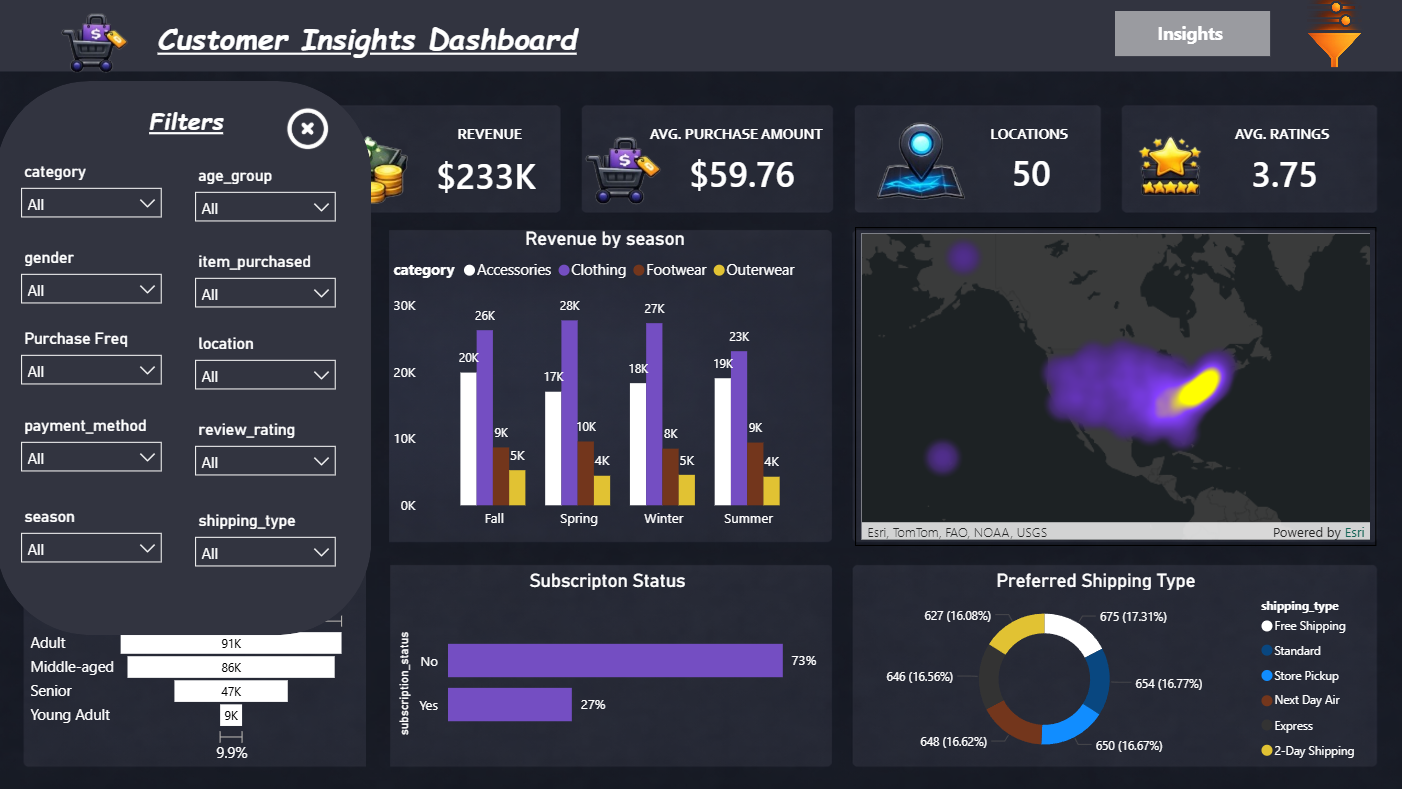

The dashboard page shown, as its layout file describes it:
{"tool":"powerbi","page":{"name":"Home","canvas":[1280,720],"ordinal":0},"visuals":[{"type":"shape","box":[0,0,1280,67.5],"z":0},{"type":"shape","box":[0,76.2,341.2,503.8],"z":0,"group":"g1"},{"type":"cardVisual","title":"CUSTOMERS","fields":{"Data":["CountNonNull(customer_behavior customer.customer_id)"]},"box":[26.2,122.5,225,76.2],"z":1000},{"type":"slicer","fields":{"Values":["customer_behavior customer.category"]},"box":[12.5,145,147.5,61.2],"z":1000,"group":"g1"},{"type":"textbox","box":[107.8,110,156.7,43.3],"z":2000},{"type":"slicer","fields":{"Values":["customer_behavior customer.age_group"]},"box":[171.2,148.7,147.5,61.2],"z":2000,"group":"g1"},{"type":"cardVisual","title":"CUSTOMERS","fields":{"Data":["Sum(customer_behavior customer.purchase_amount)"]},"box":[302.2,123.3,225.6,76.7],"z":3000},{"type":"slicer","fields":{"Values":["customer_behavior customer.gender"]},"box":[12.5,223.7,147.5,61.2],"z":3000,"group":"g1"},{"type":"textbox","box":[370,110,157.8,43.3],"z":4000},{"type":"slicer","fields":{"Values":["customer_behavior customer.item_purchased"]},"box":[171.2,227.4,147.5,61.2],"z":4000,"group":"g1"},{"type":"cardVisual","title":"CUSTOMERS","fields":{"Data":["Avg(customer_behavior customer.purchase_amount)"]},"box":[537.4,122.5,226,75.9],"z":5000},{"type":"slicer","fields":{"Values":["customer_behavior customer.frequency_of_purchases"]},"box":[12.5,297.4,147.5,61.2],"z":5000,"group":"g1"},{"type":"textbox","box":[583,110.4,180.2,43.3],"z":6000},{"type":"slicer","fields":{"Values":["customer_behavior customer.location"]},"box":[171.2,301.2,147.5,61.2],"z":6000,"group":"g1"},{"type":"cardVisual","title":"CUSTOMERS","fields":{"Data":["customer_behavior customer.Total_Locations"]},"box":[770,122.2,225.6,75.6],"z":7000},{"type":"slicer","fields":{"Values":["customer_behavior customer.payment_method"]},"box":[12.5,376.2,147.5,61.2],"z":7000,"group":"g1"},{"type":"textbox","box":[861.1,110,156.7,43.3],"z":8000},{"type":"slicer","fields":{"Values":["customer_behavior customer.review_rating"]},"box":[171.2,380,147.5,61.2],"z":8000,"group":"g1"},{"type":"cardVisual","title":"CUSTOMERS","fields":{"Data":["Avg(customer_behavior customer.review_rating)"]},"box":[1011.5,122.8,226.1,76],"z":9000},{"type":"slicer","fields":{"Values":["customer_behavior customer.season"]},"box":[12.5,458.7,147.5,61.2],"z":9000,"group":"g1"},{"type":"textbox","box":[1091,110.4,156.4,43.3],"z":10000},{"type":"slicer","fields":{"Values":["customer_behavior customer.shipping_type"]},"box":[171.2,462.4,147.5,61.2],"z":10000,"group":"g1"},{"type":"textbox","box":[128.8,91.2,87.5,43.8],"z":11000,"group":"g1"},{"type":"funnel","title":"Revenue By Age Groups","fields":{"Category":["customer_behavior customer.age_group"],"Y":["Sum(customer_behavior customer.purchase_amount)"]},"box":[26.7,520,297.8,181.1],"z":11000},{"type":"image","box":[246.2,92.4,73.8,53.8],"z":12000,"group":"g1"},{"type":"donutChart","title":"Preferred Shipping Type","fields":{"Category":["customer_behavior customer.shipping_type"],"Y":["CountNonNull(customer_behavior customer.customer_id)"]},"box":[750.9,520.3,498.2,181.1],"z":12000},{"type":"esriVisual","fields":{"Location":["customer_behavior customer.location"],"Size":["Sum(customer_behavior customer.purchase_amount)"]},"box":[780.9,209.4,474.4,289.7],"z":13000},{"type":"clusteredColumnChart","title":"Revenue by season","fields":{"Category":["customer_behavior customer.season"],"Y":["Sum(customer_behavior customer.purchase_amount)"],"Series":["customer_behavior customer.category"]},"box":[356.7,208.9,394.4,283.3],"z":14000},{"type":"clusteredBarChart","title":"Subscripton Status","fields":{"Category":["customer_behavior customer.subscription_status"],"Y":["Sum(customer_behavior customer.customer_id)"]},"box":[361.1,520,390,181.1],"z":15000},{"type":"image","box":[1153.8,2.5,126.2,61.2],"z":16000},{"type":"columnChart","title":"Top Categories by values","fields":{"Y":["Sum(customer_behavior customer.purchase_amount)"],"Category":["customer_behavior customer.category"]},"box":[32.5,215,308.8,297.5],"z":17000},{"type":"actionButton","box":[1017.5,12.5,141.2,41.2],"z":19000},{"type":"textbox","box":[1051.2,17.5,78.8,32.5],"z":20000},{"type":"image","box":[336.7,200,21.1,307.8],"z":21000},{"type":"image","box":[336.7,510,22.2,202.2],"z":22000},{"type":"textbox","box":[142.2,14.4,412.2,53.3],"z":23000},{"type":"image","box":[26.7,104.4,98.9,96.7],"z":24000},{"type":"image","box":[285.6,98.9,102.2,97.8],"z":25000},{"type":"image","box":[791.1,98.9,102.2,96.7],"z":26000},{"type":"image","box":[517.8,110,102.2,88.9],"z":27000},{"type":"image","box":[1017.8,98.9,98.9,96.7],"z":28000},{"type":"image","box":[17.8,0,142.2,77.8],"z":30000},{"type":"group","id":"g1","title":"Group 1","box":[0,76.2,341.2,503.8],"z":30500}]}

Visuals, with their boxes in screenshot pixels (x1, y1, x2, y2), scaled from the page's 1280x720 canvas onto the 1402x789 screenshot:
shape: bbox(0, 0, 1401, 74)
shape: bbox(0, 84, 374, 636)
"CUSTOMERS" cardVisual: bbox(29, 134, 275, 218)
slicer - customer_behavior customer.category: bbox(14, 159, 175, 226)
textbox: bbox(118, 121, 290, 168)
slicer - customer_behavior customer.age_group: bbox(188, 163, 349, 230)
"CUSTOMERS" cardVisual: bbox(331, 135, 578, 219)
slicer - customer_behavior customer.gender: bbox(14, 245, 175, 312)
textbox: bbox(405, 121, 578, 168)
slicer - customer_behavior customer.item_purchased: bbox(188, 249, 349, 316)
"CUSTOMERS" cardVisual: bbox(589, 134, 836, 217)
slicer - customer_behavior customer.frequency_of_purchases: bbox(14, 326, 175, 393)
textbox: bbox(639, 121, 836, 168)
slicer - customer_behavior customer.location: bbox(188, 330, 349, 397)
"CUSTOMERS" cardVisual: bbox(843, 134, 1090, 217)
slicer - customer_behavior customer.payment_method: bbox(14, 412, 175, 479)
textbox: bbox(943, 121, 1115, 168)
slicer - customer_behavior customer.review_rating: bbox(188, 416, 349, 483)
"CUSTOMERS" cardVisual: bbox(1108, 135, 1356, 218)
slicer - customer_behavior customer.season: bbox(14, 503, 175, 570)
textbox: bbox(1195, 121, 1366, 168)
slicer - customer_behavior customer.shipping_type: bbox(188, 507, 349, 574)
textbox: bbox(141, 100, 237, 148)
"Revenue By Age Groups" funnel: bbox(29, 570, 355, 768)
image: bbox(270, 101, 350, 160)
"Preferred Shipping Type" donutChart: bbox(822, 570, 1368, 769)
esriVisual - customer_behavior customer.location x Sum(customer_behavior customer.purchase_amount): bbox(855, 229, 1375, 547)
"Revenue by season" clusteredColumnChart: bbox(391, 229, 823, 539)
"Subscripton Status" clusteredBarChart: bbox(396, 570, 823, 768)
image: bbox(1264, 3, 1401, 70)
"Top Categories by values" columnChart: bbox(36, 236, 374, 562)
actionButton: bbox(1114, 14, 1269, 59)
textbox: bbox(1151, 19, 1238, 55)
image: bbox(369, 219, 392, 556)
image: bbox(369, 559, 393, 780)
textbox: bbox(156, 16, 607, 74)
image: bbox(29, 114, 138, 220)
image: bbox(313, 108, 425, 216)
image: bbox(867, 108, 978, 214)
image: bbox(567, 121, 679, 218)
image: bbox(1115, 108, 1223, 214)
image: bbox(19, 0, 175, 85)
"Group 1" group: bbox(0, 84, 374, 636)
